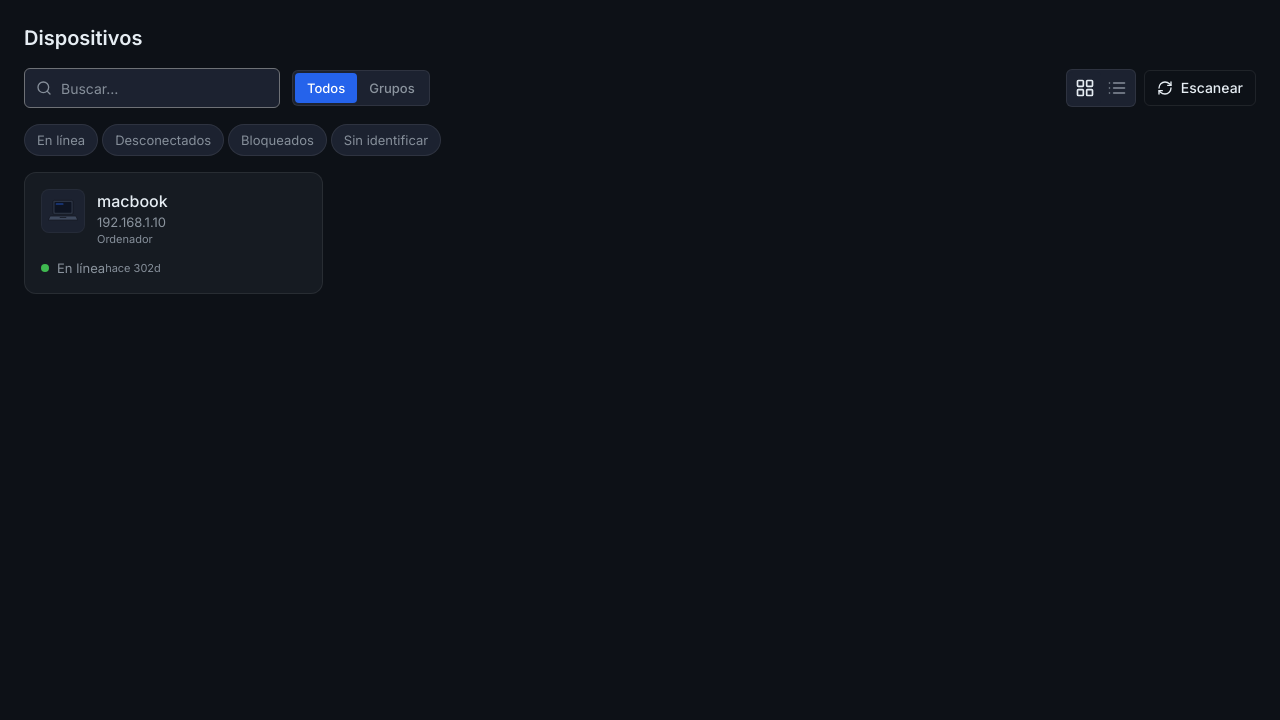
it: InventoryPage › al hacer clic en una card abre el slideover de detalle
The image size is (1280, 720).
Click the text "macbook".
click(132, 201)  # box [97,189,168,213]
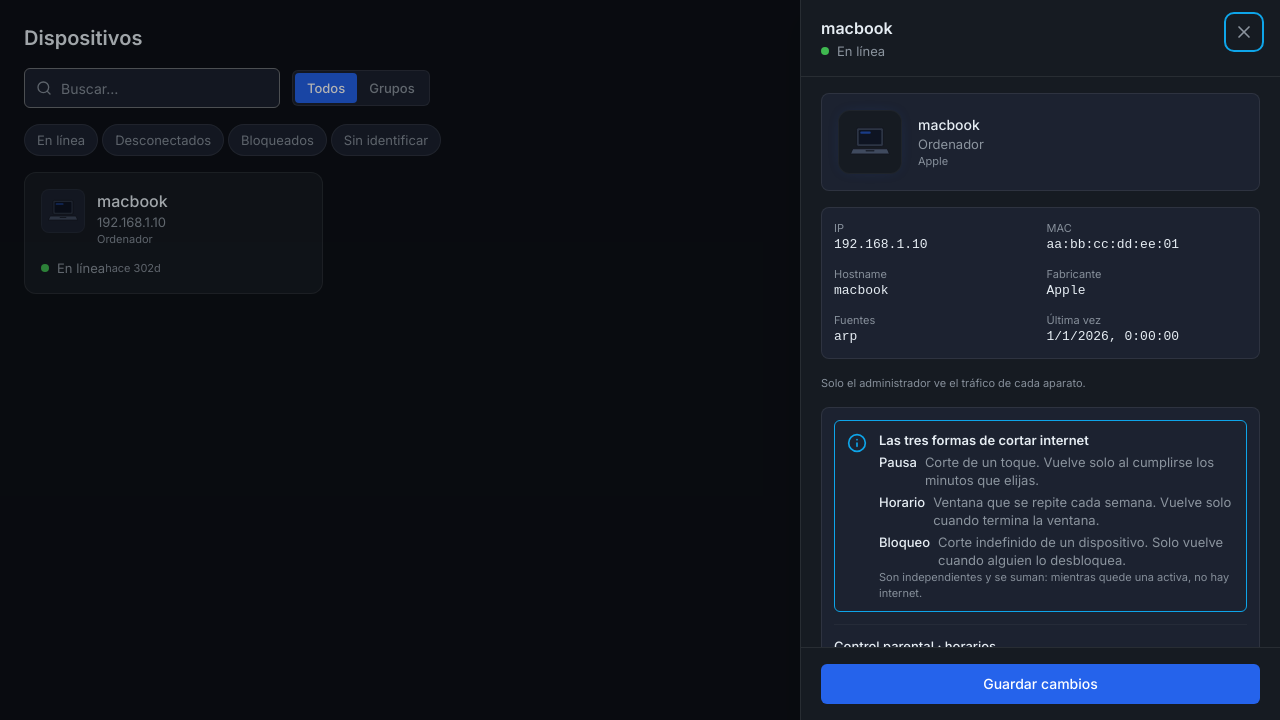
Check: the button "Guardar cambios" is shown, box [821,664,1260,704]
